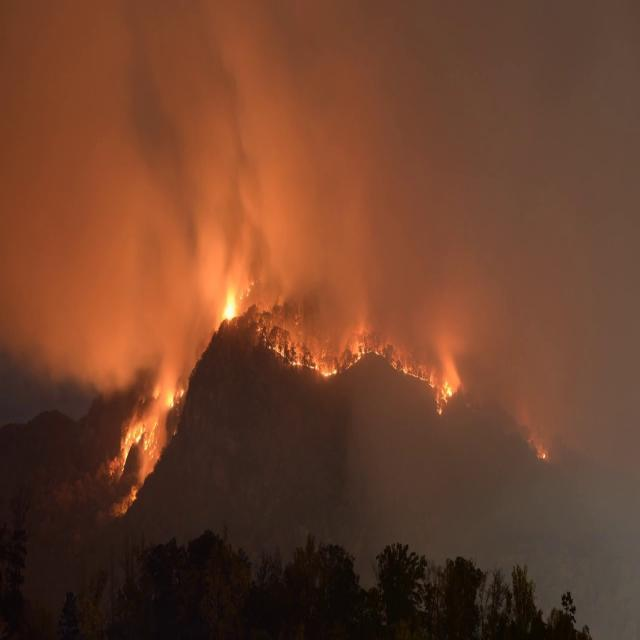Fire: (264, 338, 453, 418), (120, 383, 184, 470), (220, 290, 237, 322)
Smoke: (0, 1, 394, 402)
